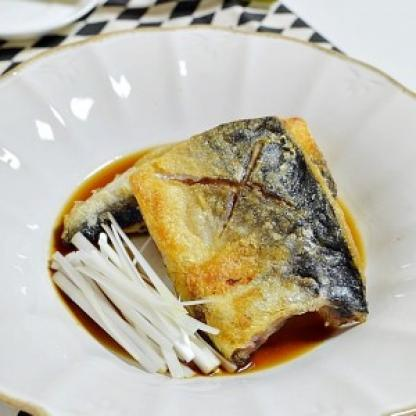Peixe: (147, 94, 357, 366)
